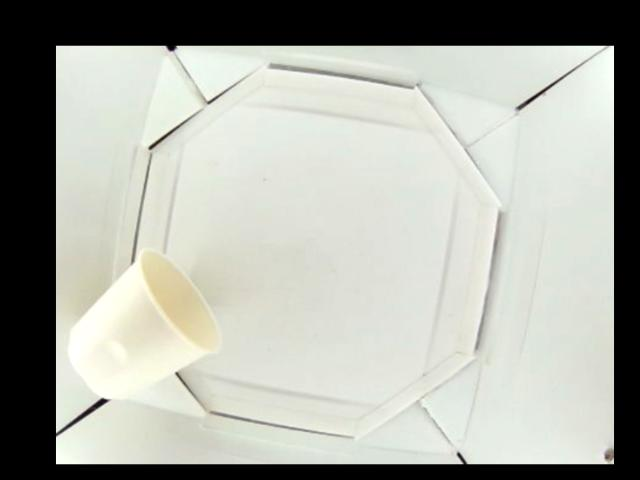Cup: (65, 248, 220, 401)
